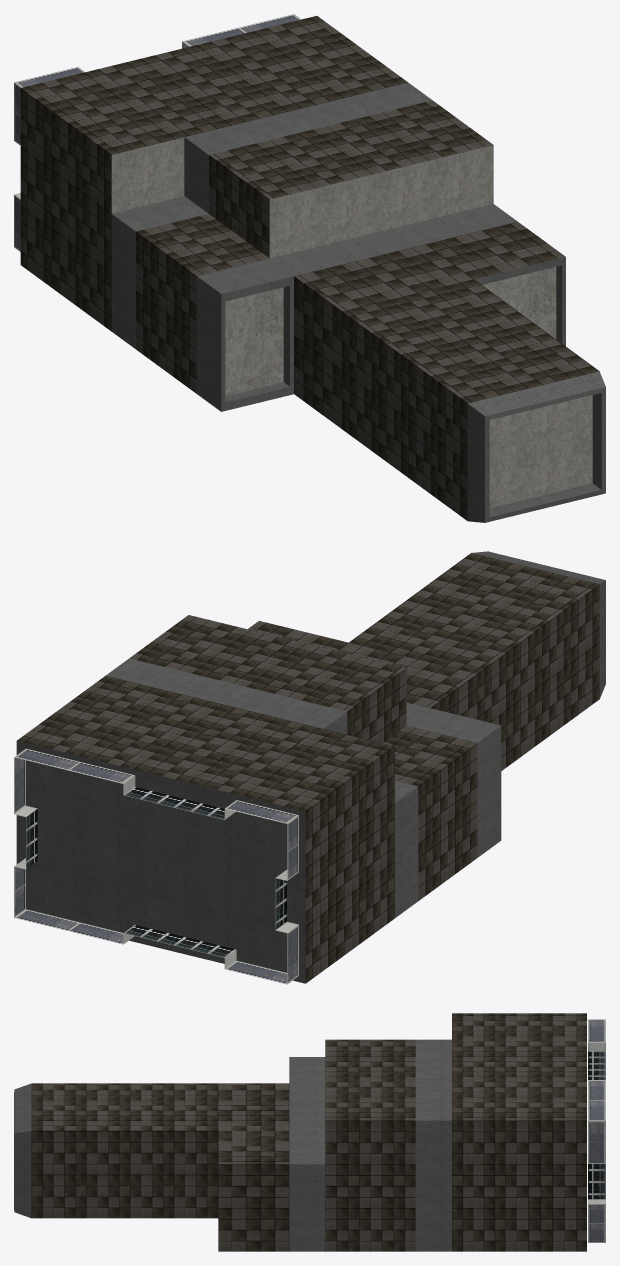
Rendered from skyscraper_windowH_06.obj.
3 views of the same model, one above another, from view 1: azimuth 30°, elevation 25°; view 2: azimuth 150°, elevation 25°; view 3: azimuth 270°, elevation 25° (orthographic). The views are drawn at different scales.
Parts seen in each view (by area): view 1: Object101; view 2: Object101; view 3: Object101.
Boxes of the visible parts, left/top/right/bottom form: Object101: left=14, top=14, right=605, bottom=522; Object101: left=14, top=551, right=605, bottom=984; Object101: left=14, top=1013, right=605, bottom=1251.
Size of the model in its own units: 84.23 by 48 by 196.
Materials: 5 (5 with a texture image).
